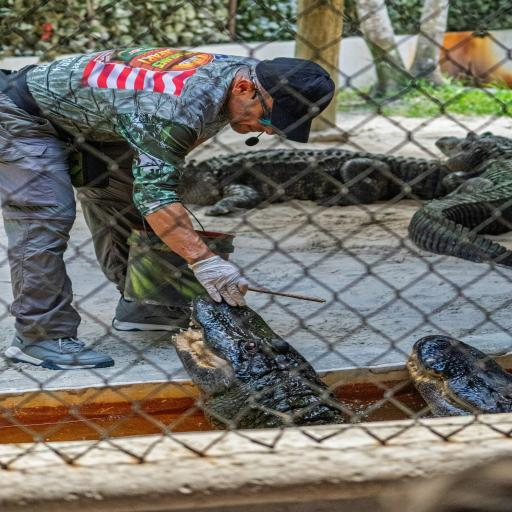Gloves: (139, 240, 293, 315)
